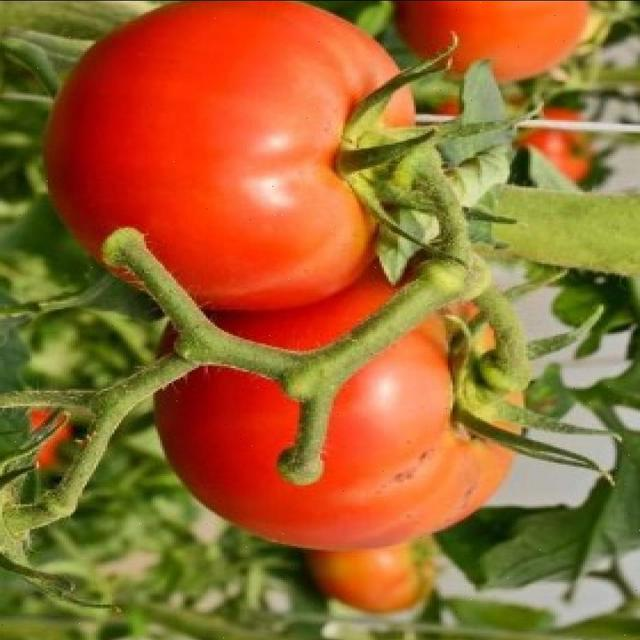Healthy Fruit: (134, 29, 337, 284)
